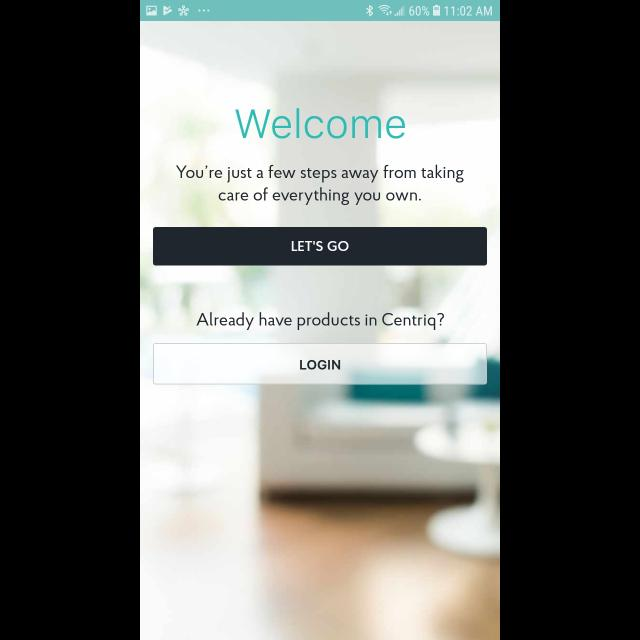backgroundimage: (140, 22, 500, 640)
text: (176, 164, 464, 206), (235, 108, 405, 140), (198, 312, 444, 330)
textbutton: (153, 343, 487, 385), (153, 227, 487, 266)
uppertaskbar: (140, 1, 500, 22)
